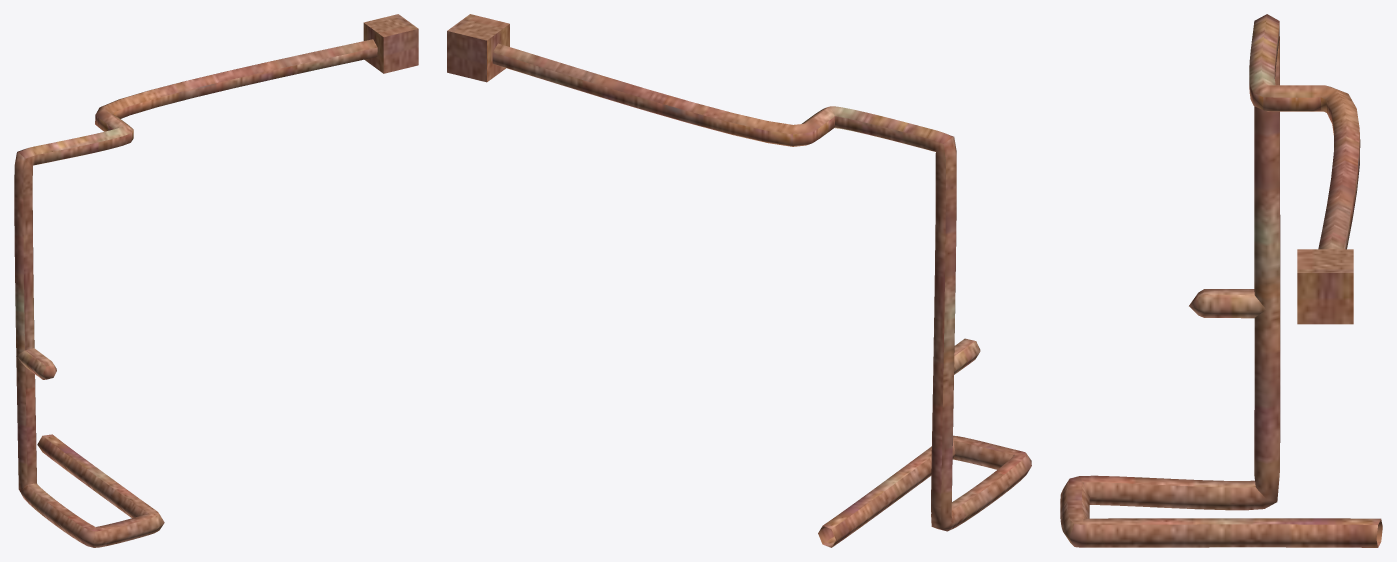
File: Valve Pipeline_FBX.fbx
3 views of the same model, side by side, from view 1: azimuth 30°, elevation 25°; view 2: azimuth 150°, elevation 25°; view 3: azimuth 270°, elevation 25° (orthographic). The views are drawn at different scales.
Visible parts, largest first — view 1: Tubería para valvula 1; view 2: Tubería para valvula 1; view 3: Tubería para valvula 1.
Part boxes in pixels (x1,y1,x2,y2): Tubería para valvula 1: (14, 14, 418, 547); Tubería para valvula 1: (447, 14, 1031, 547); Tubería para valvula 1: (1060, 14, 1382, 547).
Size of the model in its own units: 1373 by 1150 by 660.
